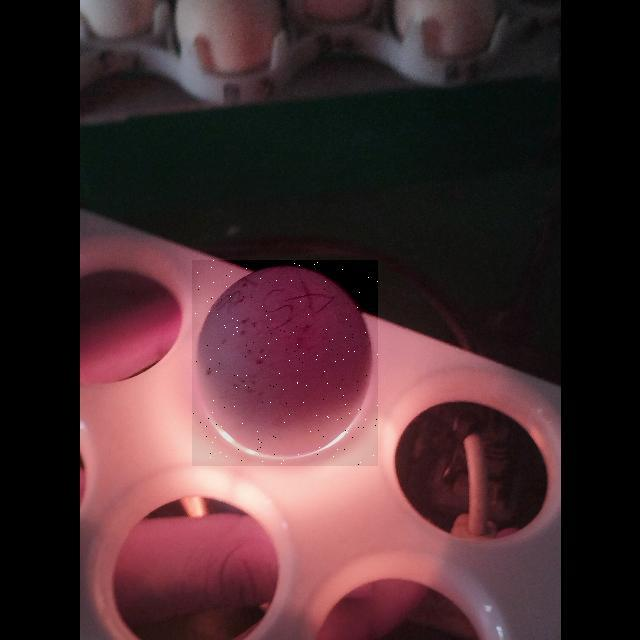Fertile: (192, 260, 378, 466)
